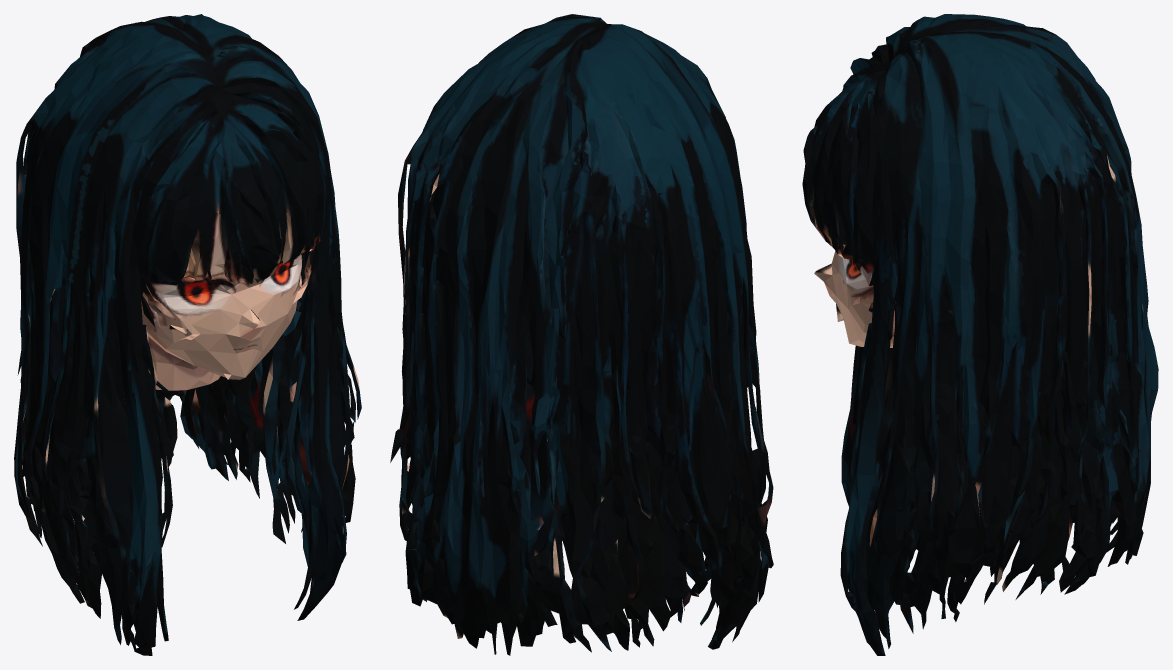
The model's file is side_osuko_repaired_atlas.glb.
3 views of the same model, side by side, from view 1: azimuth 30°, elevation 25°; view 2: azimuth 150°, elevation 25°; view 3: azimuth 270°, elevation 25° (orthographic). The views are drawn at different scales.
Parts seen in each view (by area): view 1: temp_mesh.ply; view 2: temp_mesh.ply; view 3: temp_mesh.ply.
Boxes of the visible parts, left/top/right/bottom form: temp_mesh.ply: left=14, top=14, right=361, bottom=655; temp_mesh.ply: left=390, top=14, right=773, bottom=655; temp_mesh.ply: left=802, top=14, right=1158, bottom=655.
Size of the model in its own units: 1.14 by 1.97 by 1.07.
1 material, 1 textured.
